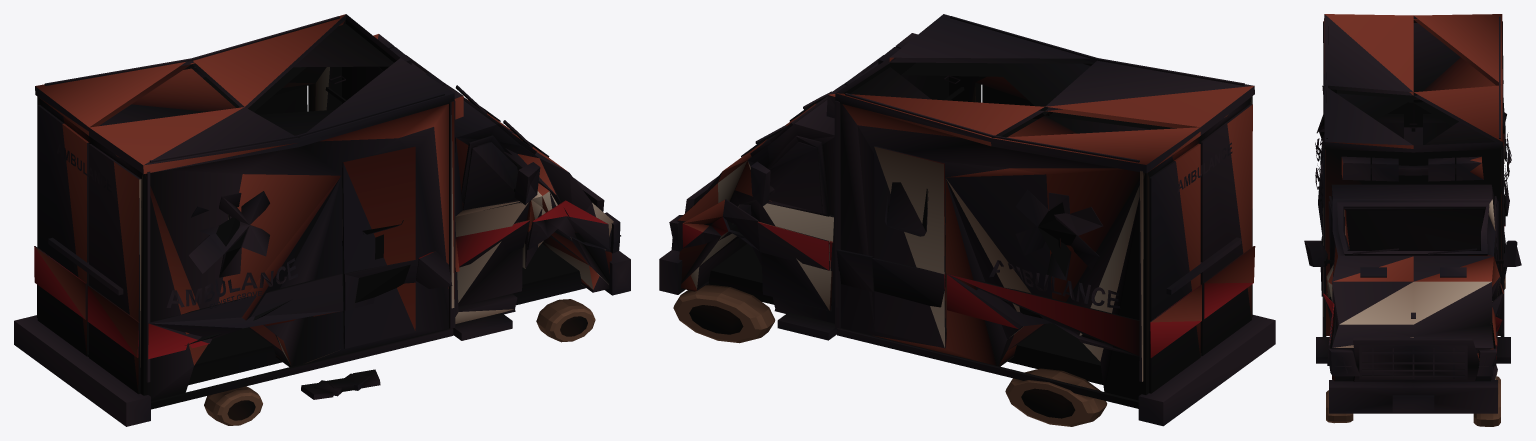
The model's file is model.burned.glb.
3 renders of one model, left to right at view 1: azimuth 30°, elevation 25°; view 2: azimuth 150°, elevation 25°; view 3: azimuth 270°, elevation 25°, orthographic. The views are drawn at different scales.
Visible parts, largest first — view 1: body_pal_uiDark, body_pal_brick, body_pal_picketWhite, body_pal_survivorRed, wheelFL_pal_sidewalk, wheelRL_pal_sidewalk; view 2: body_pal_uiDark, body_pal_brick, body_pal_picketWhite, body_pal_survivorRed, wheelFR_pal_sidewalk, wheelRR_pal_sidewalk; view 3: body_pal_uiDark, body_pal_brick, body_pal_picketWhite, wheelFR_pal_sidewalk, wheelFL_pal_sidewalk, body_pal_survivorRed.
Boxes of the visible parts, box(x1,y1,x2,y2) form: body_pal_uiDark: box(14, 14, 630, 426); body_pal_brick: box(34, 14, 611, 393); body_pal_picketWhite: box(37, 67, 613, 383); body_pal_survivorRed: box(34, 200, 607, 359); wheelFL_pal_sidewalk: box(536, 299, 595, 342); wheelRL_pal_sidewalk: box(204, 386, 262, 425); body_pal_uiDark: box(659, 14, 1275, 426); body_pal_brick: box(678, 57, 1255, 366); body_pal_picketWhite: box(690, 84, 1252, 394); body_pal_survivorRed: box(682, 217, 1253, 357); wheelFR_pal_sidewalk: box(673, 284, 775, 343); wheelRR_pal_sidewalk: box(1005, 368, 1107, 426); body_pal_uiDark: box(1304, 14, 1521, 413); body_pal_brick: box(1323, 14, 1504, 380); body_pal_picketWhite: box(1323, 89, 1504, 379); wheelFR_pal_sidewalk: box(1473, 376, 1500, 426); wheelFL_pal_sidewalk: box(1326, 390, 1353, 423); body_pal_survivorRed: box(1323, 224, 1504, 359).
Bounding box in the file's own units: 6.21 × 3.31 × 2.79.
